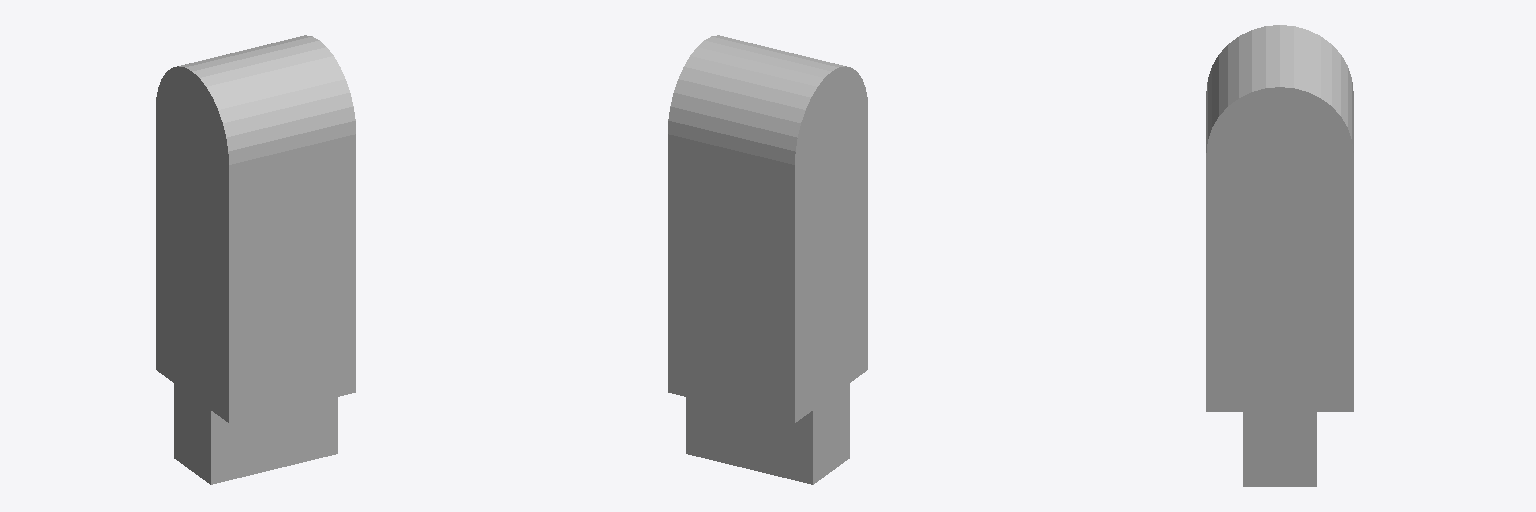
The model's file is body_l_dist_springvround.obj.
3 renders of one model, left to right at view 1: azimuth 30°, elevation 25°; view 2: azimuth 150°, elevation 25°; view 3: azimuth 270°, elevation 25°, orthographic.
Parts seen in each view (by area): view 1: body_l_dist_springvround_Cube.666; view 2: body_l_dist_springvround_Cube.666; view 3: body_l_dist_springvround_Cube.666.
Part boxes in pixels (x1,y1,x2,y2): body_l_dist_springvround_Cube.666: (156, 35, 355, 484); body_l_dist_springvround_Cube.666: (668, 35, 867, 484); body_l_dist_springvround_Cube.666: (1206, 25, 1353, 486).
Size of the model in its own units: 0.02 by 0.06 by 0.02.